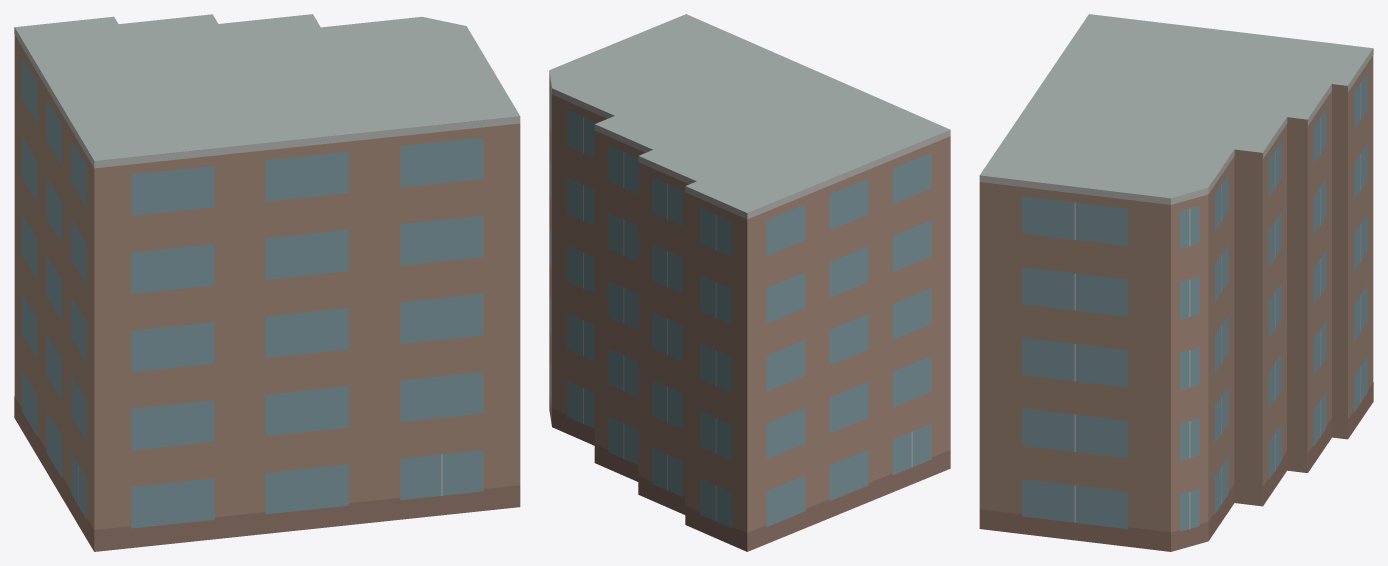
The model's file is survey-upis-32651947.glb.
3 renders of one model, left to right at view 1: azimuth 30°, elevation 25°; view 2: azimuth 150°, elevation 25°; view 3: azimuth 270°, elevation 25°, orthographic. The views are drawn at different scales.
Parts seen in each view (by area): view 1: survey-upis-32651947.tmp; view 2: survey-upis-32651947.tmp; view 3: survey-upis-32651947.tmp.
Part boxes in pixels (x1,y1,x2,y2): survey-upis-32651947.tmp: (14,14,520,551); survey-upis-32651947.tmp: (549,14,950,551); survey-upis-32651947.tmp: (979,14,1373,551).
Size of the model in its own units: 14.66 by 13.1 by 13.24.
